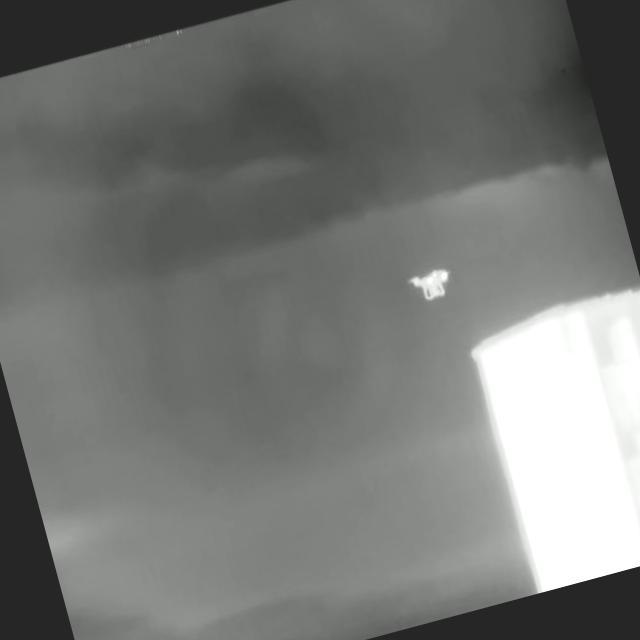DRONE: (404, 263, 453, 303)
